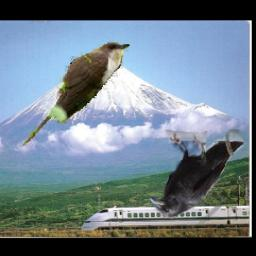Crow: (151, 130, 248, 219)
Cuckoo: (21, 42, 131, 148)
